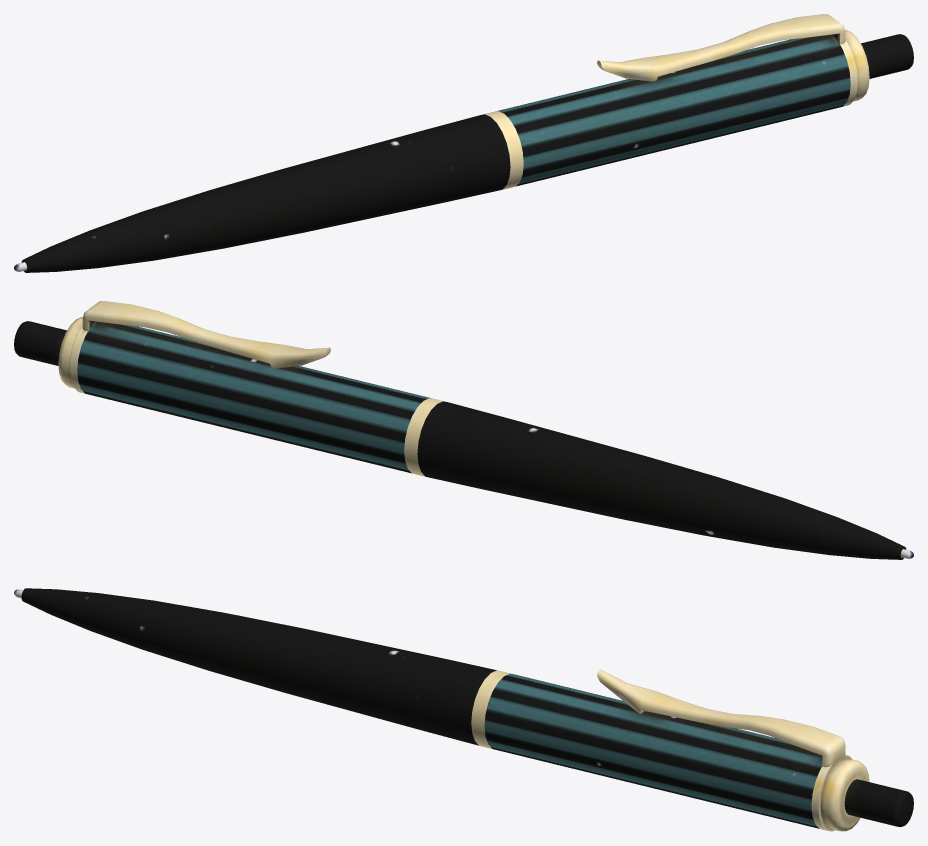
The model's file is pen.glb.
3 renders of one model, top to bottom at view 1: azimuth 30°, elevation 25°; view 2: azimuth 150°, elevation 25°; view 3: azimuth 330°, elevation 25°, orthographic.
Visible parts, largest first — view 1: stationery_supplies_pen_fancy; view 2: stationery_supplies_pen_fancy; view 3: stationery_supplies_pen_fancy.
Boxes of the visible parts, left/top/right/bottom form: stationery_supplies_pen_fancy: left=14, top=14, right=913, bottom=272; stationery_supplies_pen_fancy: left=14, top=301, right=913, bottom=559; stationery_supplies_pen_fancy: left=14, top=588, right=913, bottom=831.
Bounding box in the file's own units: 0.1313 × 0.0142 × 0.01.
Materials: 1 (1 with a texture image).
